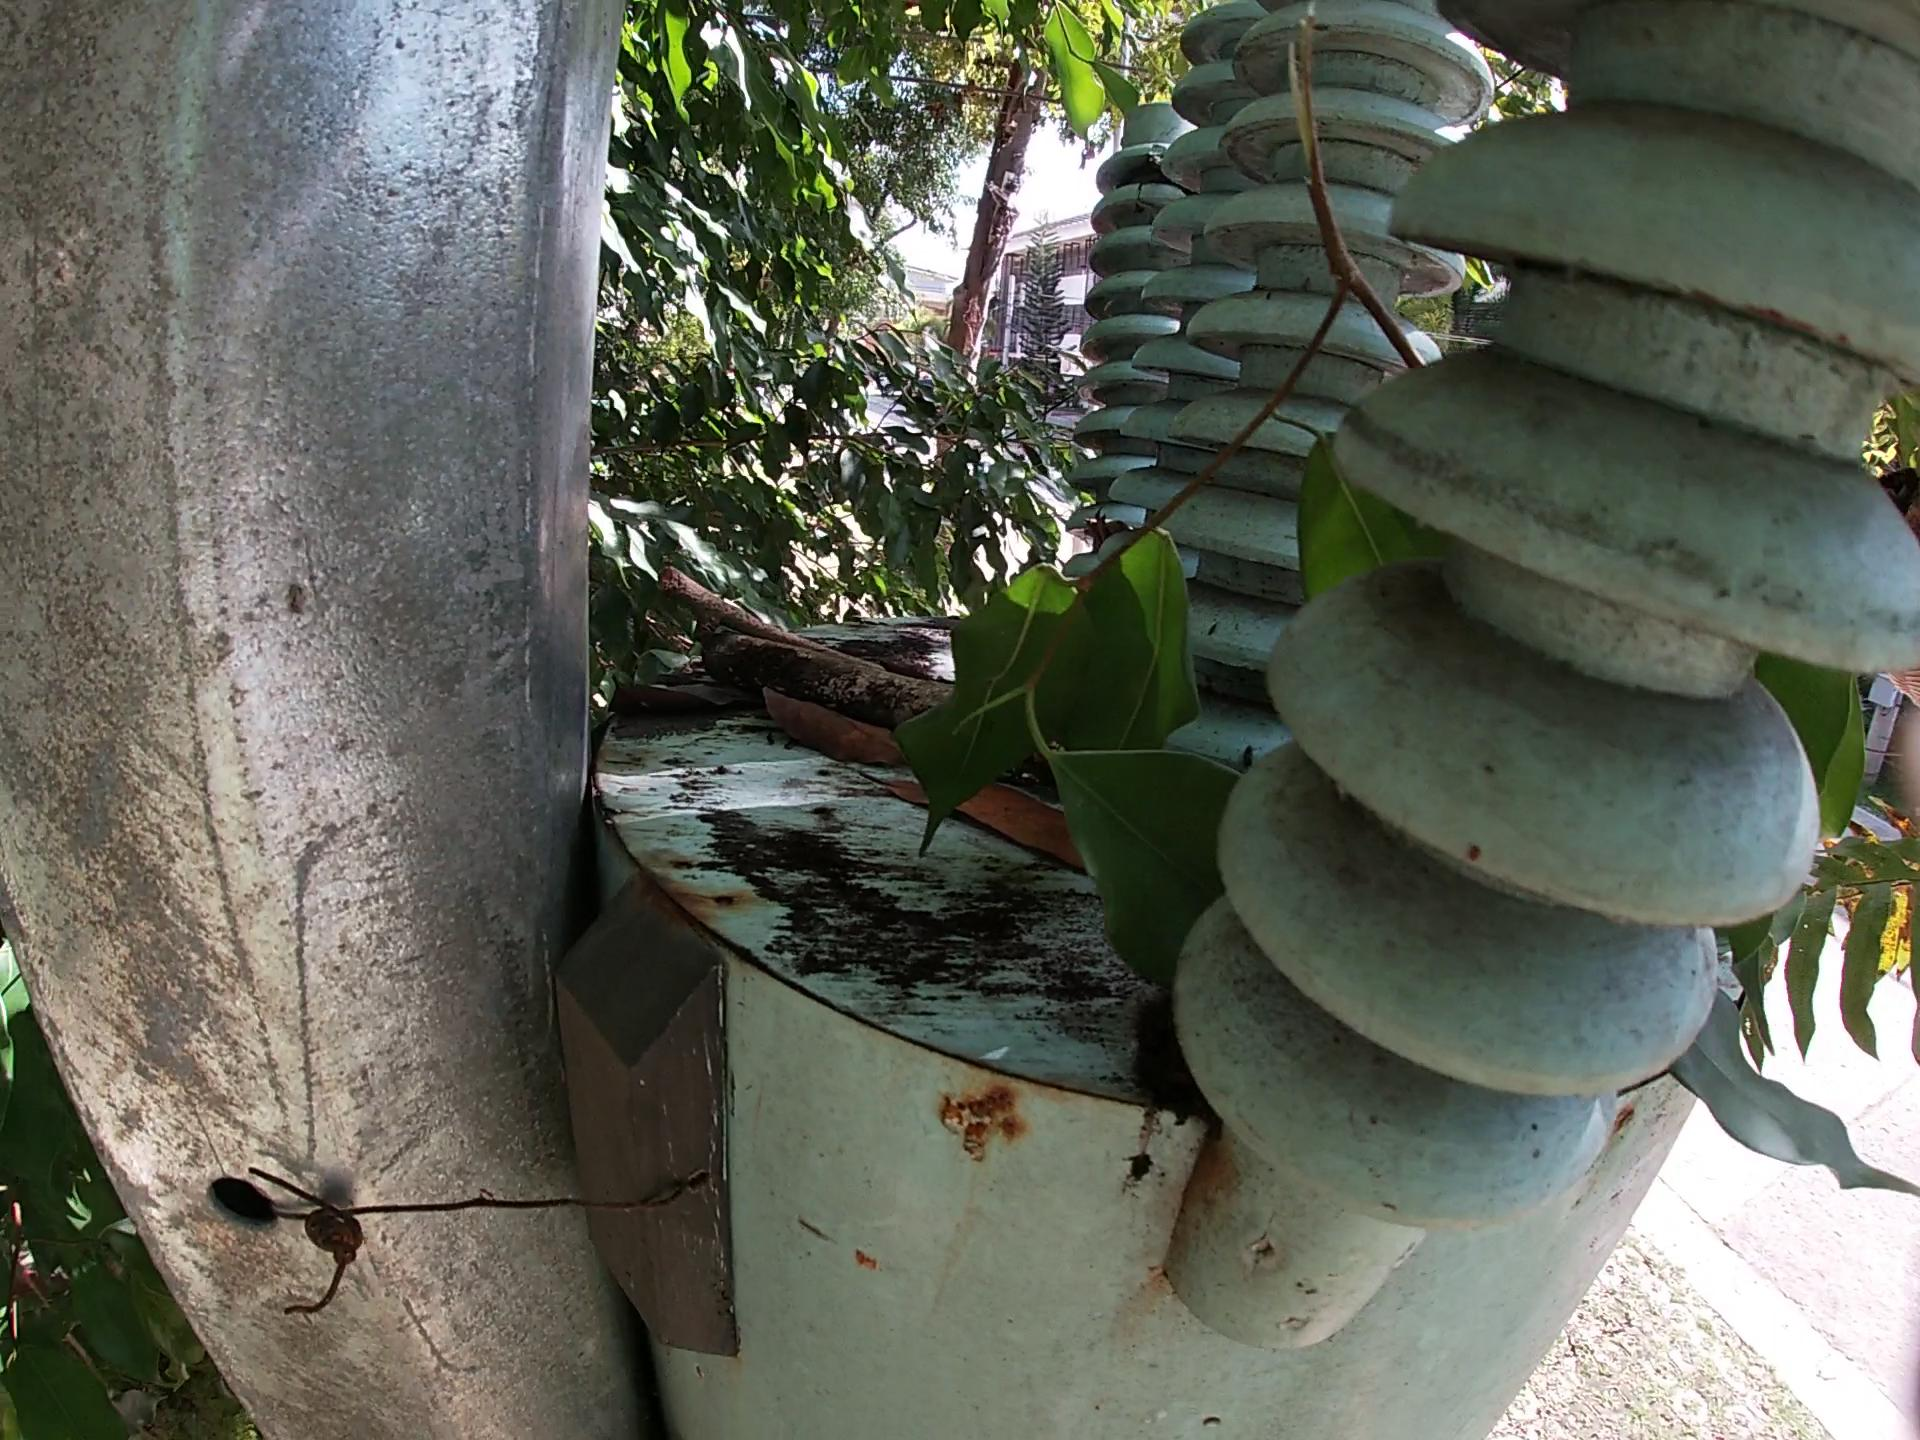branch with leaves: (880, 85, 1466, 998)
leaf: (1651, 572, 1912, 1201), (881, 784, 1101, 883), (751, 687, 918, 771), (597, 688, 738, 755)
tree branch: (683, 629, 955, 725), (659, 555, 835, 638)
